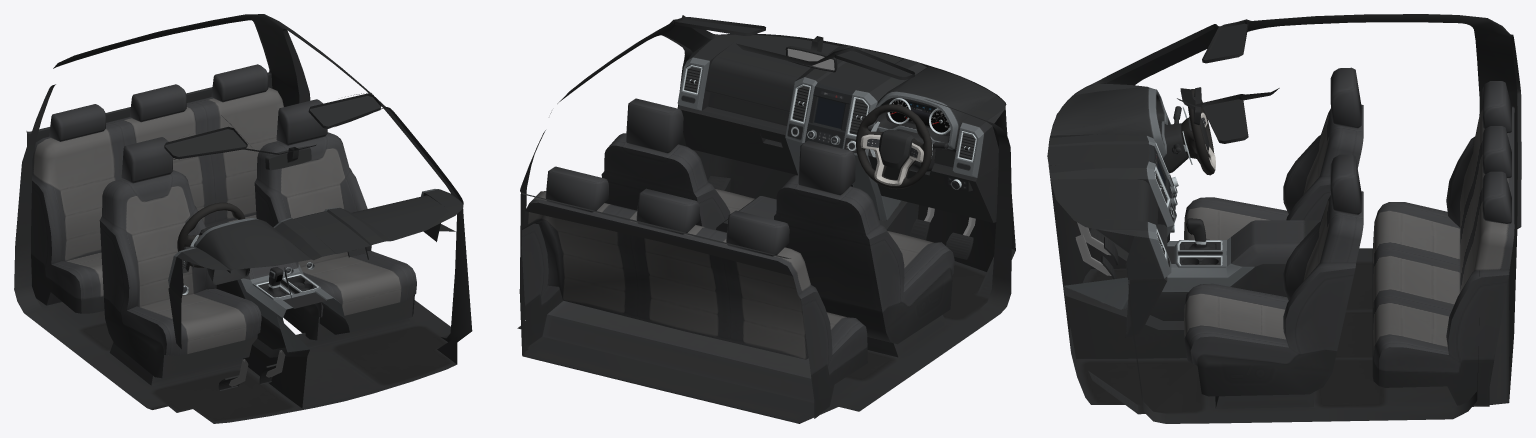
File: RealisticCar04_HD_Interior_RightHanded.FBX
3 views of the same model, side by side, from view 1: azimuth 30°, elevation 25°; view 2: azimuth 150°, elevation 25°; view 3: azimuth 270°, elevation 25° (orthographic). The views are drawn at different scales.
Parts seen in each view (by area): view 1: Car04_Interior_LOD0, Car04_Interior_SteeringWheel_LOD0; view 2: Car04_Interior_LOD0, Car04_Interior_SteeringWheel_LOD0; view 3: Car04_Interior_LOD0, Car04_Interior_SteeringWheel_LOD0.
Boxes of the visible parts, bbox=[...] form: Car04_Interior_LOD0: bbox=[14, 14, 472, 423]; Car04_Interior_SteeringWheel_LOD0: bbox=[177, 202, 245, 267]; Car04_Interior_LOD0: bbox=[517, 15, 1015, 423]; Car04_Interior_SteeringWheel_LOD0: bbox=[856, 104, 932, 189]; Car04_Interior_LOD0: bbox=[1047, 14, 1521, 423]; Car04_Interior_SteeringWheel_LOD0: bbox=[1181, 89, 1215, 175].
Size of what is drawn, in the model's own units: 2.04 by 2.34 by 1.5.
Materials: 1 (1 with a texture image).
